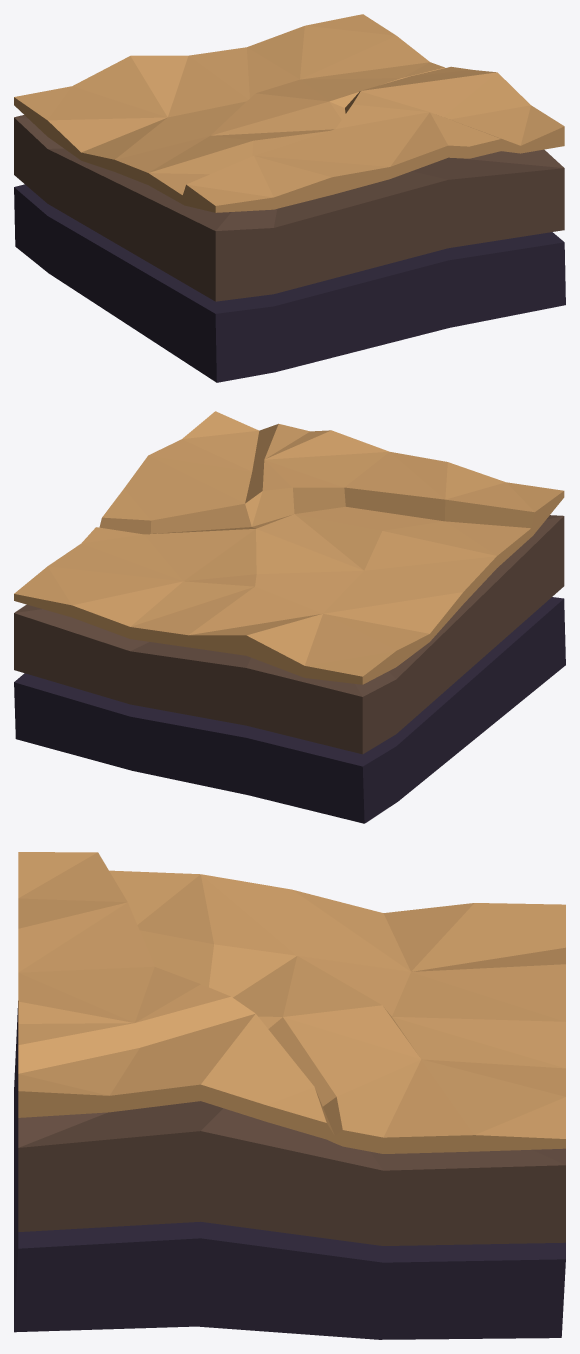
The model's file is ground_04.glb.
The picture shows the model from 3 angles, top to bottom: view 1: azimuth 30°, elevation 25°; view 2: azimuth 150°, elevation 25°; view 3: azimuth 270°, elevation 25°; orthographic projection. The views are drawn at different scales.
Parts seen in each view (by area): view 1: Plane.006; view 2: Plane.006; view 3: Plane.006.
Part boxes in pixels (x1=…): Plane.006: x1=14, y1=14, x2=565, y2=382; Plane.006: x1=14, y1=411, x2=565, y2=823; Plane.006: x1=14, y1=852, x2=565, y2=1339.
Size of the model in its own units: 30.02 by 15.96 by 30.23.
Materials: 1 (1 with a texture image).
